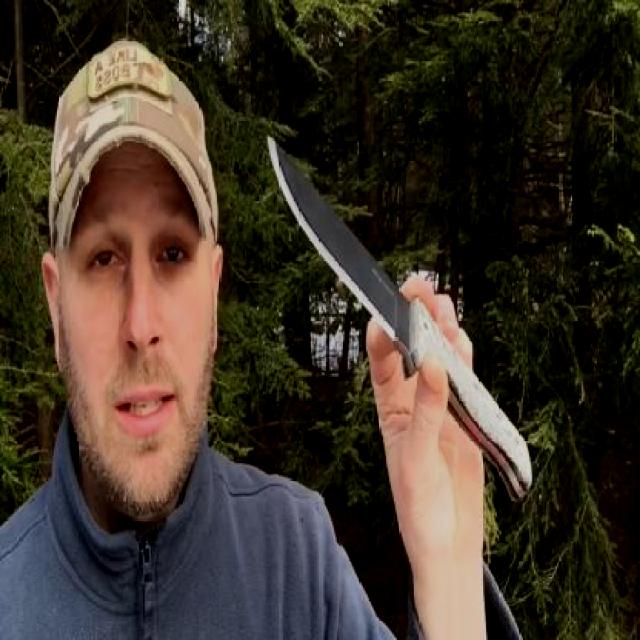knife: (260, 124, 462, 424)
